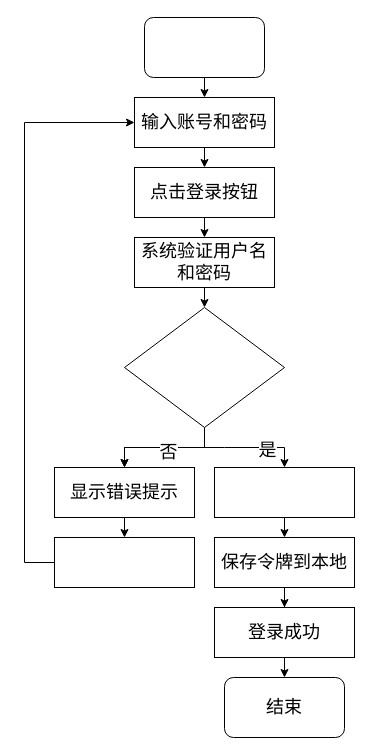
Image size: 372x755. Some labels were removed from this diagram. The box of each missing label's shape, as (x1, y1, x2, y2) in pixels:
开始: (144, 16, 264, 78)
生成JWT Token: (214, 466, 354, 518)
返回登录页面: (54, 536, 194, 588)
验证是否成功？: (124, 306, 284, 428)
